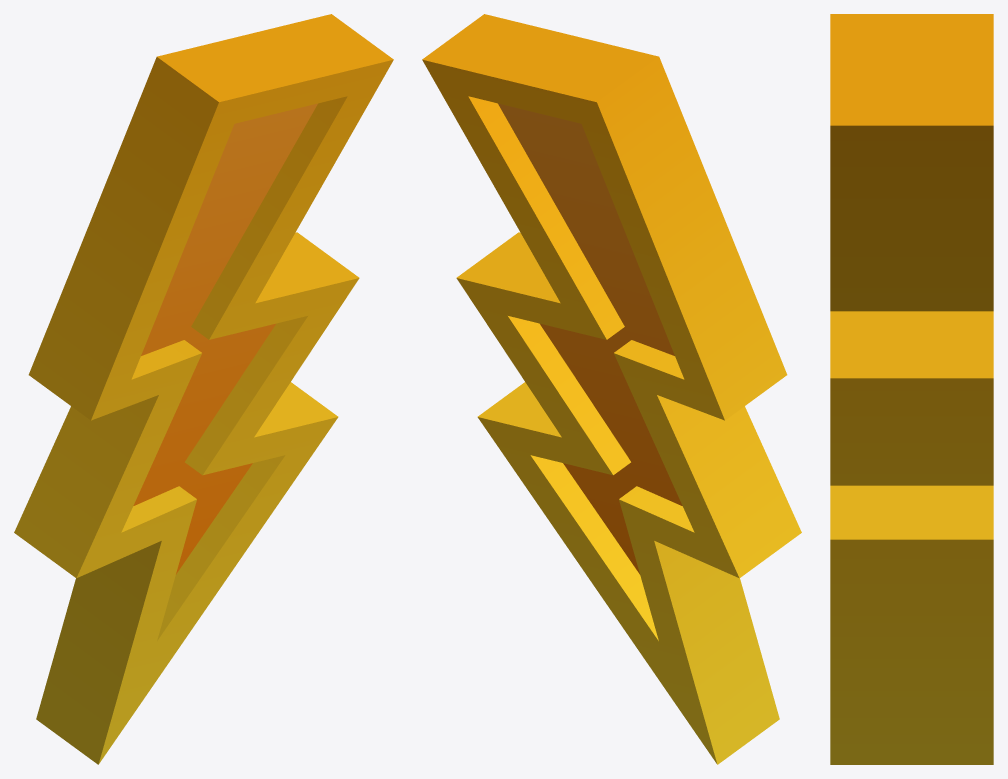
The model's file is Collectable_Lightning_03.fbx.
3 renders of one model, left to right at view 1: azimuth 30°, elevation 25°; view 2: azimuth 150°, elevation 25°; view 3: azimuth 270°, elevation 25°, orthographic. The views are drawn at different scales.
Visible parts, largest first — view 1: Collectable_Lightning_03; view 2: Collectable_Lightning_03; view 3: Collectable_Lightning_03.
Boxes of the visible parts, left/top/right/bottom form: Collectable_Lightning_03: left=14, top=14, right=393, bottom=764; Collectable_Lightning_03: left=422, top=14, right=801, bottom=764; Collectable_Lightning_03: left=830, top=14, right=993, bottom=764.
Bounding box in the file's own units: 40.24 × 76.67 × 13.68.
Materials: 1 (1 with a texture image).
